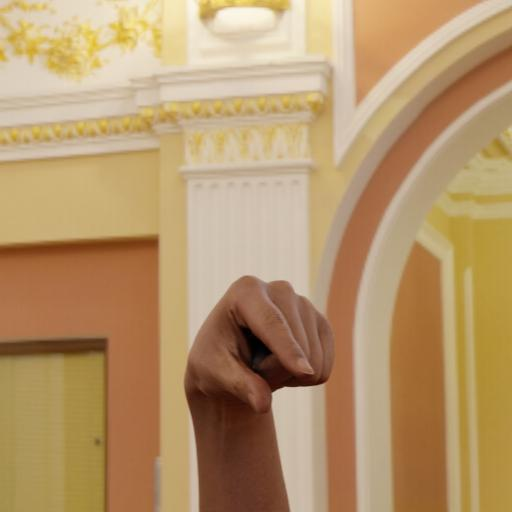Q: (165, 254, 352, 512)
